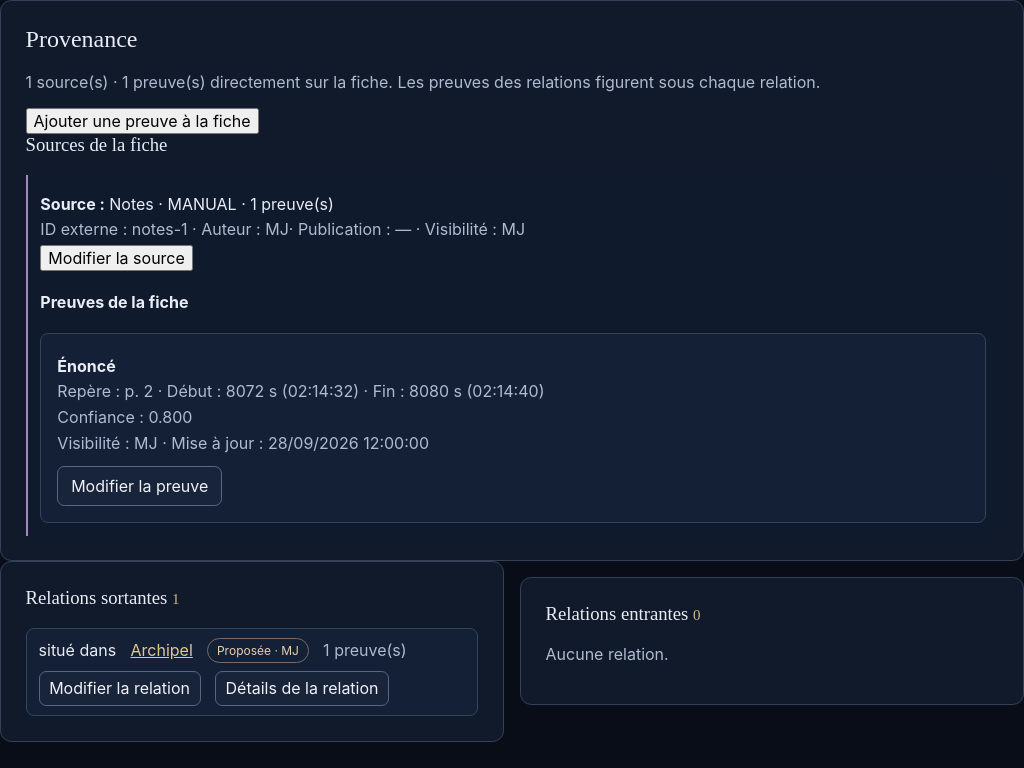
Test: relations et provenance admin › affiche une Source partagée une fois par bloc, avec les preuves de chaque cible
This screenshot has width=1024, height=768.
Click the button "Détails de la relation": click(302, 688) [215,671,389,706]
(page scrolled)
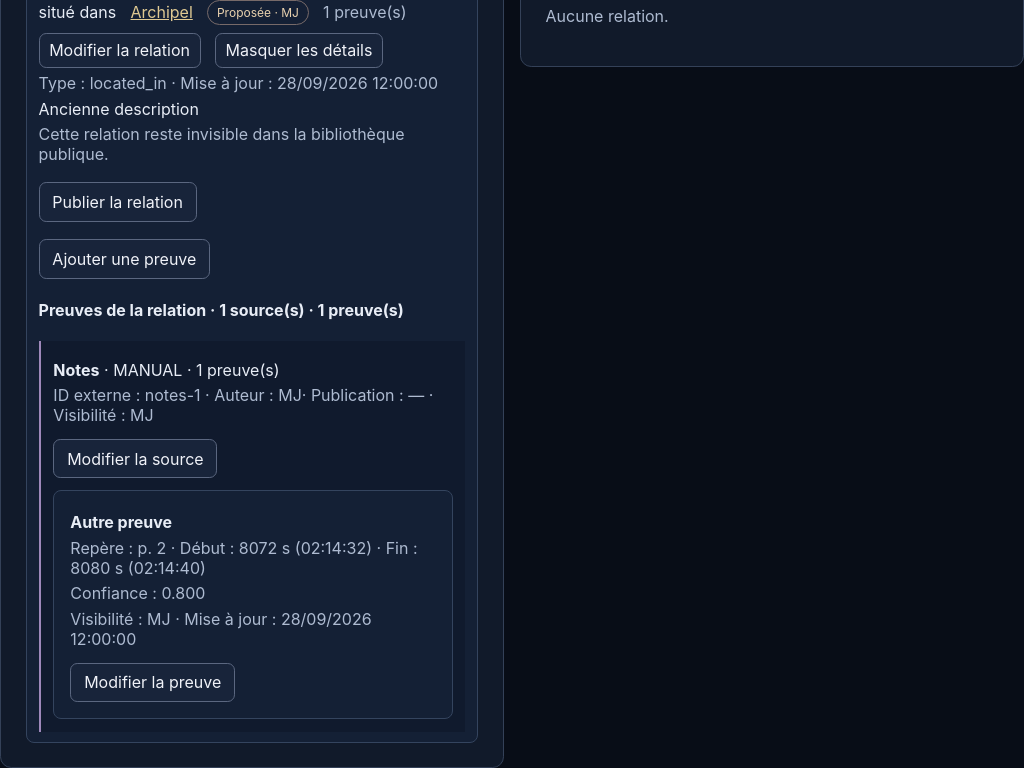
Now the number of buttons "Modifier la source" is 2
Now the text "Autre preuve" is shown, box [70,512,172,532]
